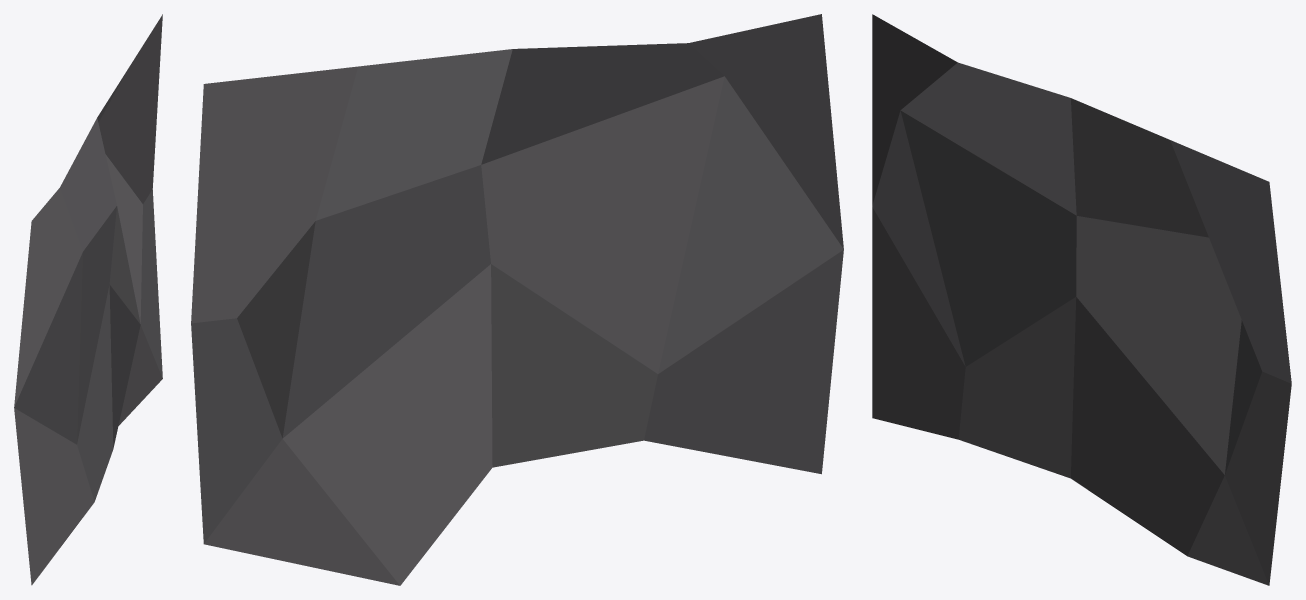
The model's file is mesh_nature_cliff_top_corner_inverted.fbx.
3 renders of one model, left to right at view 1: azimuth 30°, elevation 25°; view 2: azimuth 150°, elevation 25°; view 3: azimuth 270°, elevation 25°, orthographic. The views are drawn at different scales.
Parts seen in each view (by area): view 1: mesh_nature_cliff_top_corner_inverted; view 2: mesh_nature_cliff_top_corner_inverted; view 3: mesh_nature_cliff_top_corner_inverted.
Part boxes in pixels (x1,y1,x2,y2): mesh_nature_cliff_top_corner_inverted: (14,14,162,585); mesh_nature_cliff_top_corner_inverted: (191,14,843,585); mesh_nature_cliff_top_corner_inverted: (872,14,1291,585).
Bounding box in the file's own units: 188 × 217 × 188.
